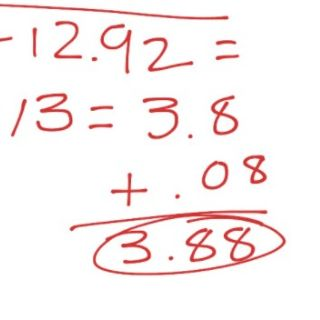.: (185, 130, 196, 140)
0: (198, 159, 229, 190)
1: (10, 98, 26, 138), (29, 24, 41, 58)
2: (142, 33, 190, 72), (51, 18, 83, 60)
3: (32, 92, 74, 133)
8: (205, 94, 241, 138), (239, 154, 272, 186)
9: (98, 22, 132, 74)
